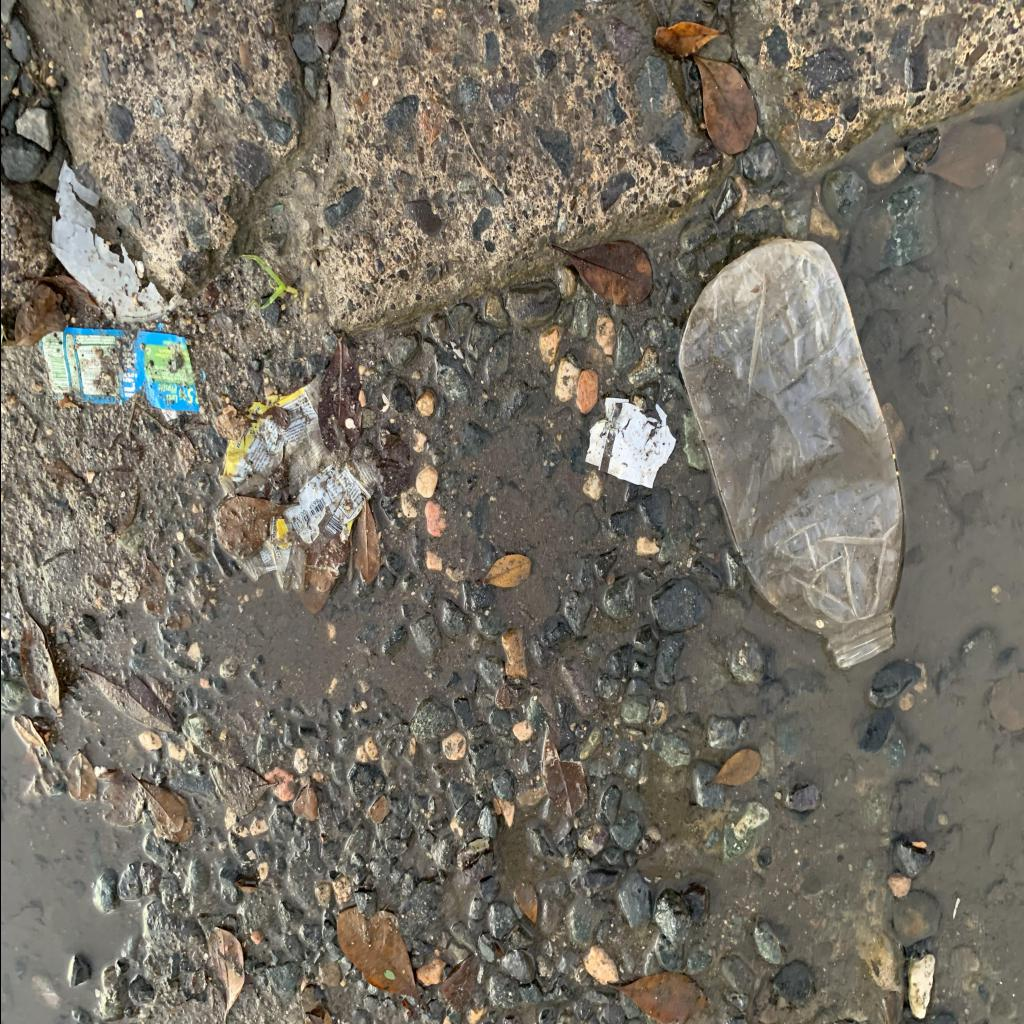Clear plastic bottle: (677, 239, 903, 669)
Normal paper: (585, 398, 675, 488)
Other plastic: (37, 322, 199, 412)
Other plastic bottle: (50, 161, 188, 323)
Plastic film: (221, 372, 376, 594)
